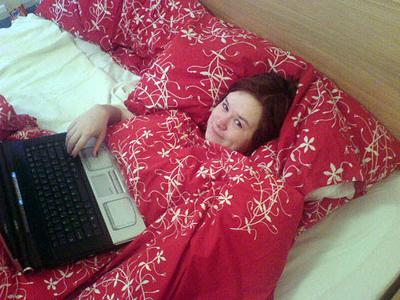person: (63, 71, 298, 168)
